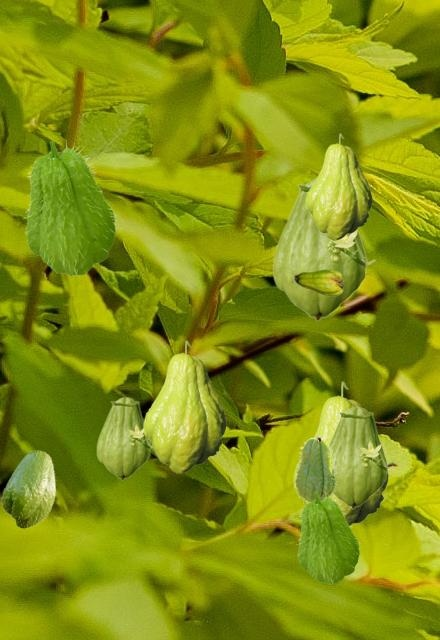sayote: (272, 177, 375, 320), (293, 381, 387, 525), (23, 139, 117, 275), (143, 340, 225, 472), (305, 133, 371, 239), (329, 407, 393, 508), (296, 491, 360, 583), (96, 397, 151, 479), (0, 450, 55, 528), (294, 436, 336, 502), (292, 269, 342, 295)
